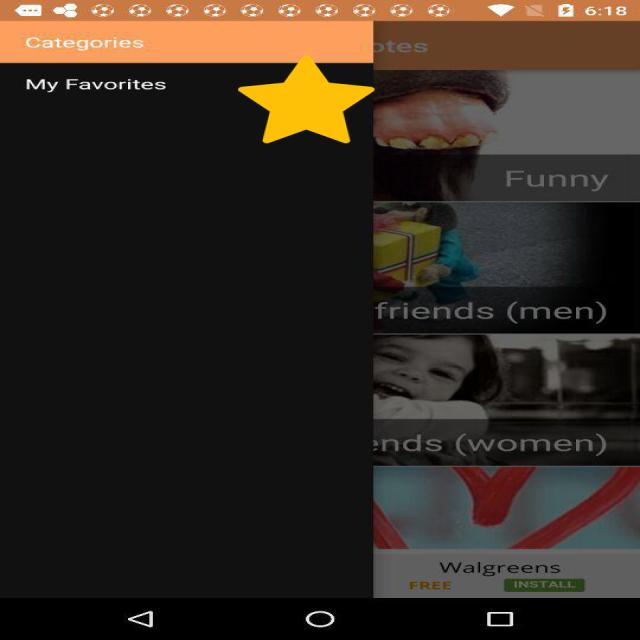forced continuity: (238, 55, 375, 144)
